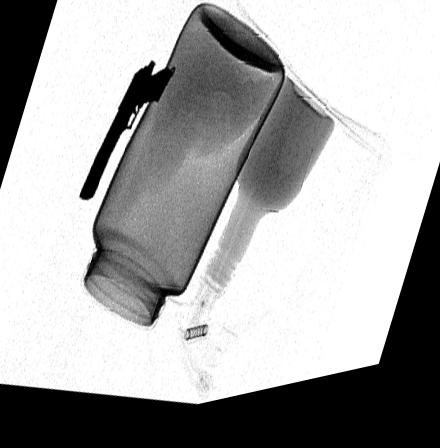Gun: (78, 66, 177, 206)
